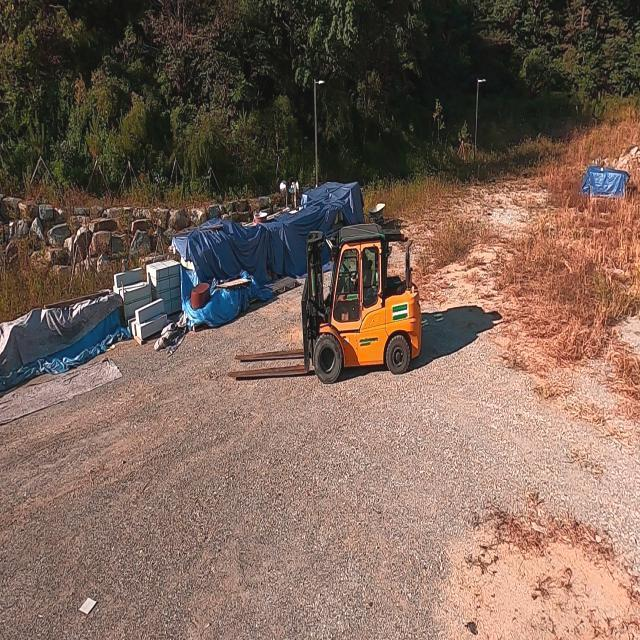forklift: (298, 223, 422, 381)
